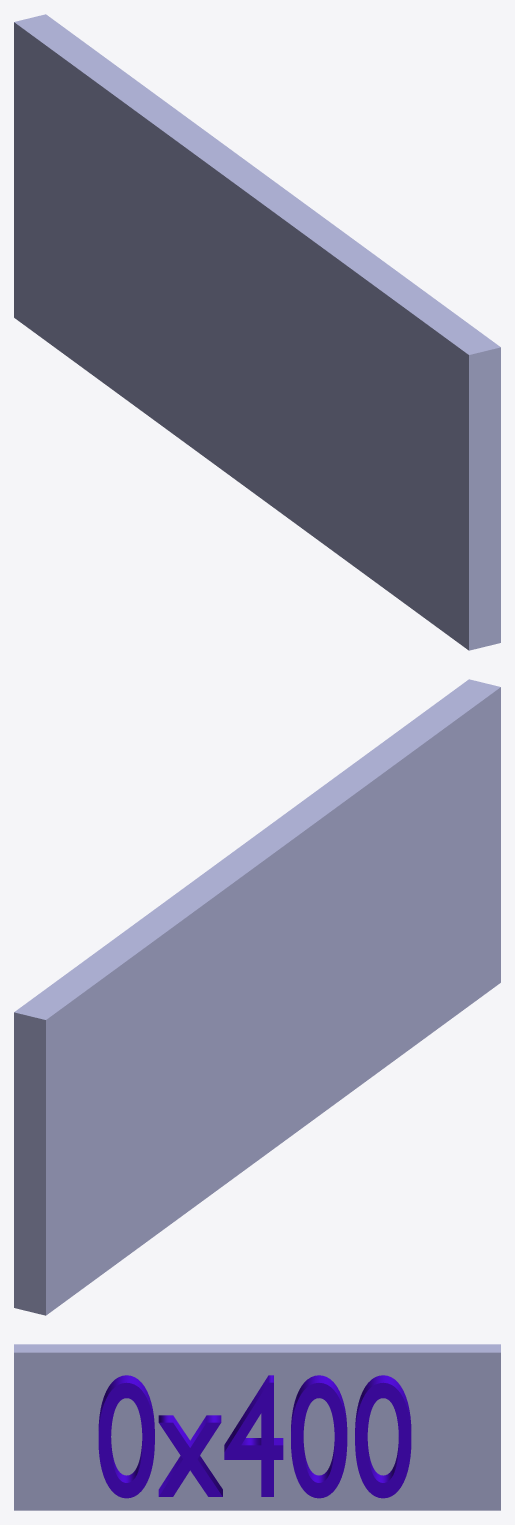
3 renders of one model, top to bottom at view 1: azimuth 30°, elevation 25°; view 2: azimuth 150°, elevation 25°; view 3: azimuth 270°, elevation 25°, orthographic. The views are drawn at different scales.
Visible parts, largest first — view 1: Cube; view 2: Cube; view 3: Cube, Text.
Boxes of the visible parts, x1,y1,x2,y2 form: Cube: (14,14,500,650); Cube: (14,679,500,1315); Cube: (14,1344,500,1510); Text: (98,1375,411,1498).
Size of the model in its own units: 2.65 by 12.33 by 34.39.
